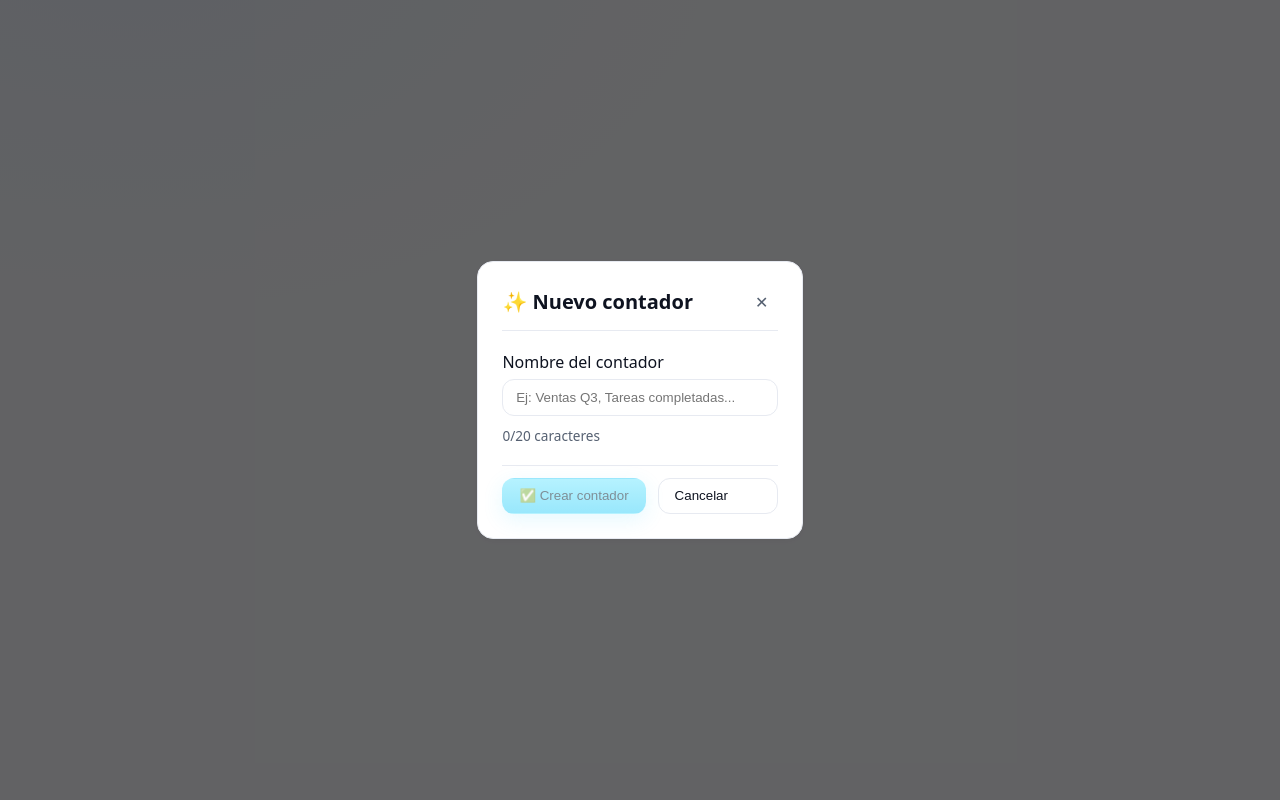
Test case: AddCounterModal Component › Validation logic › should validate name length correctly
The width and height of the screenshot is (1280, 800).
# Test minimum valid length (1 character)
Type "A" into the field with id "add-name" at (640, 398), box top-left (502, 380), bottom-right (778, 416)
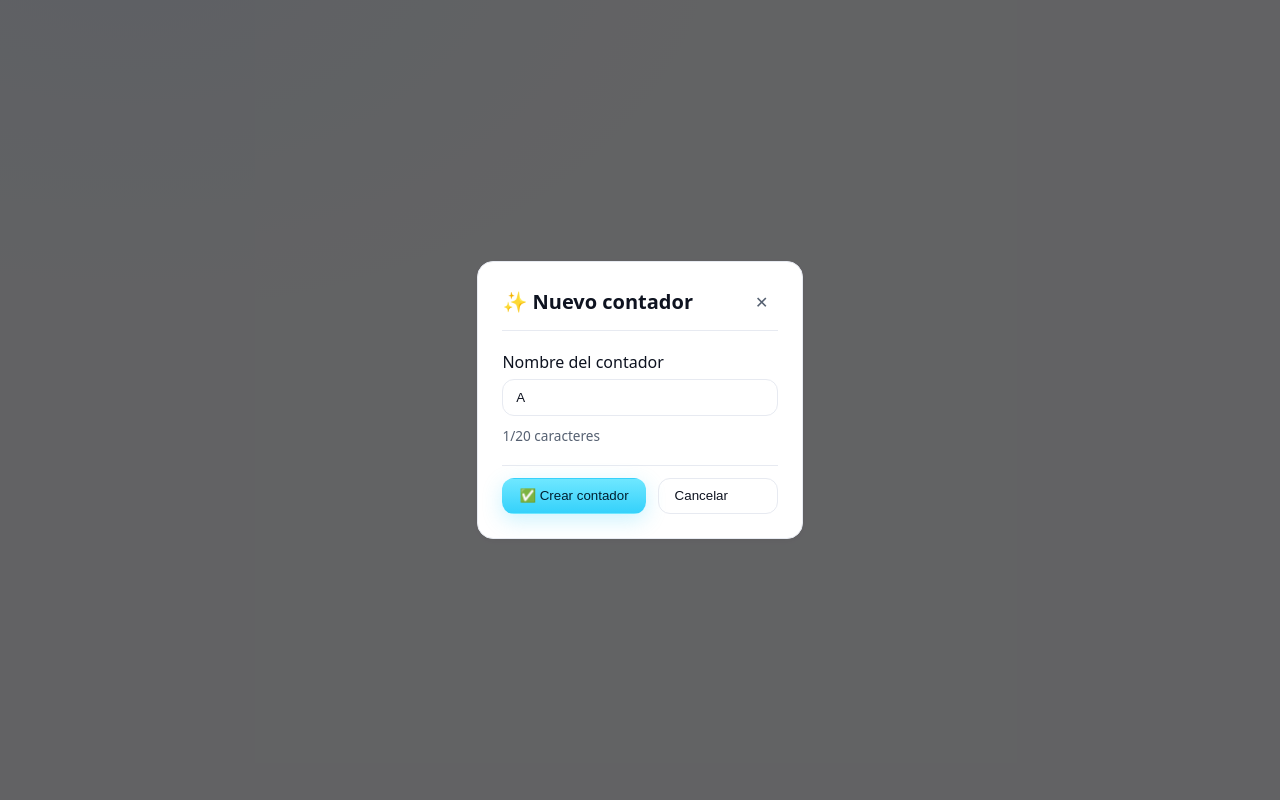
Check: the button "✅ Crear contador" is enabled, box top-left (502, 478), bottom-right (646, 514)
# Test maximum valid length (20 characters)
Replace the text in the field with id "add-name" with "12345678901234567890" at (640, 398), box top-left (502, 380), bottom-right (778, 416)
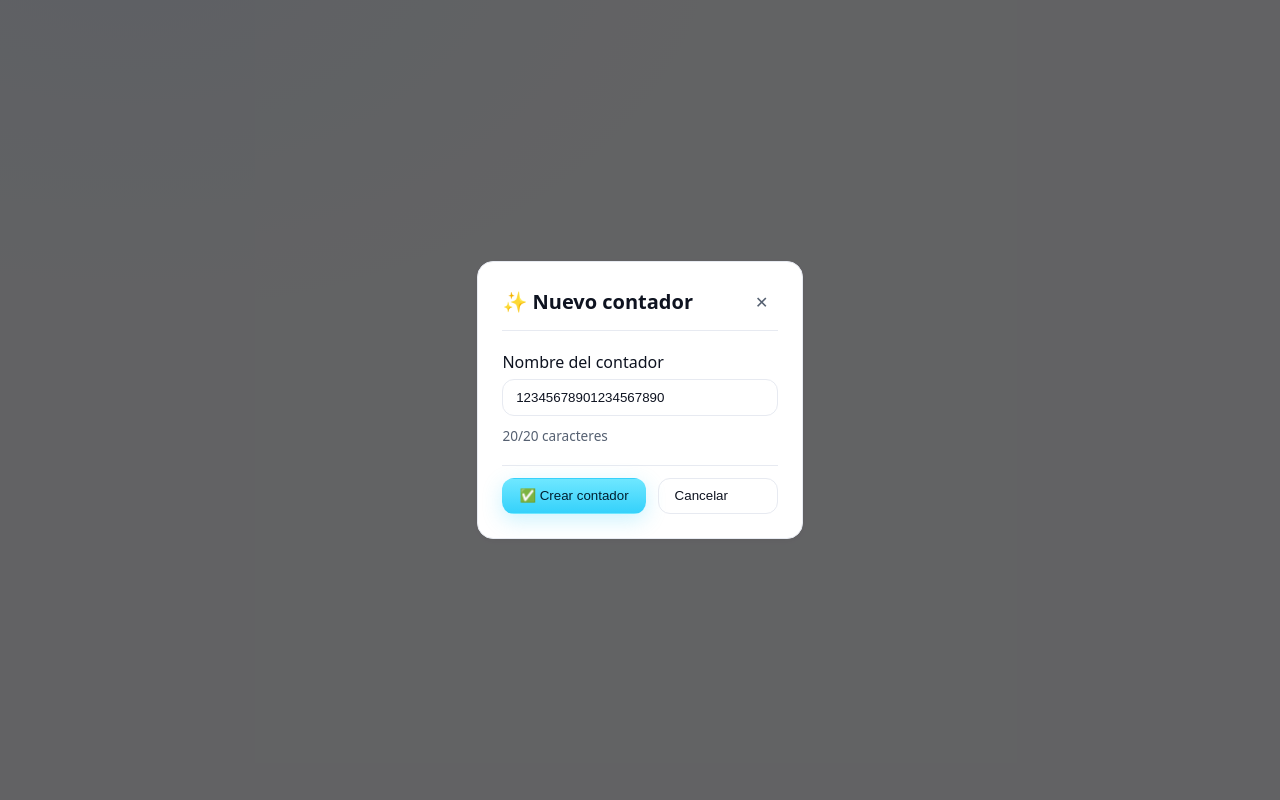
Check: the button "✅ Crear contador" is enabled, box top-left (502, 478), bottom-right (646, 514)
# Test over maximum length (21 characters)
Replace the text in the field with id "add-name" with "123456789012345678901" at (640, 398), box top-left (502, 380), bottom-right (778, 416)
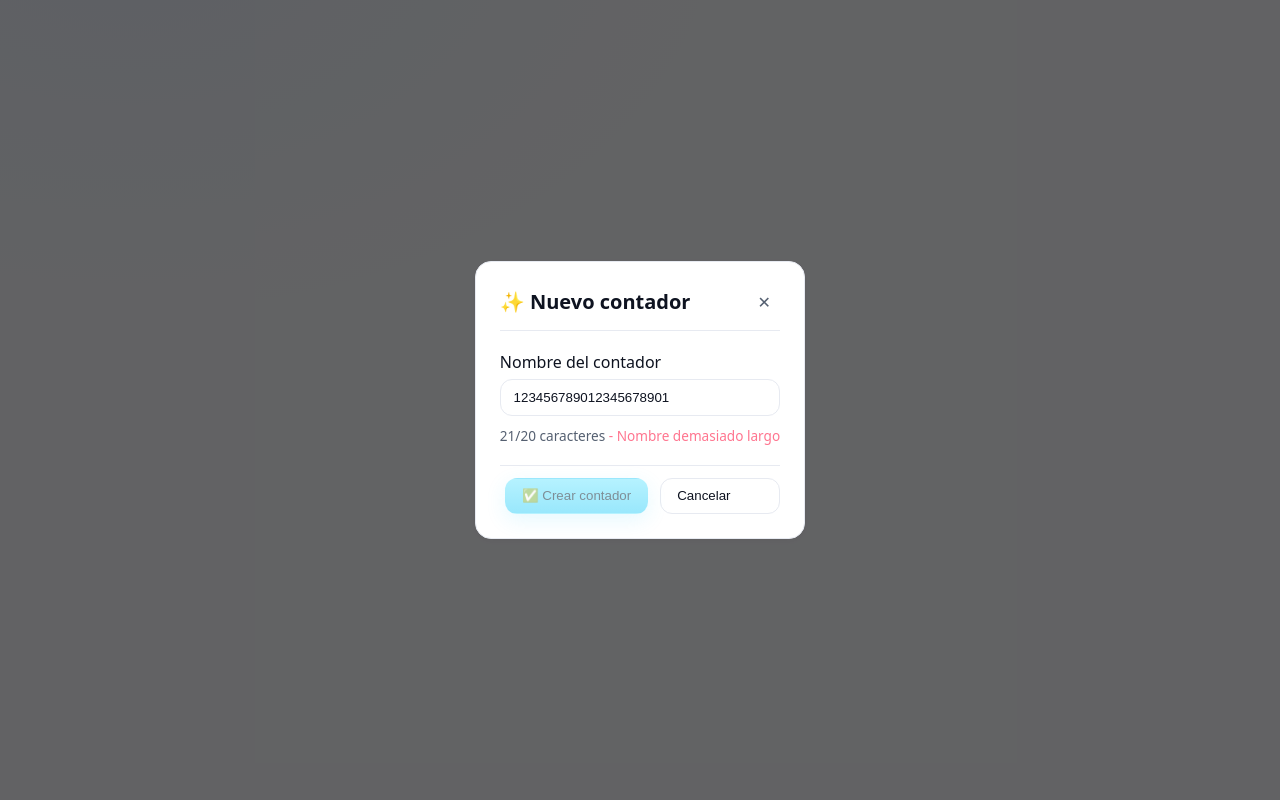
Check: the button "✅ Crear contador" is disabled, box top-left (505, 478), bottom-right (648, 514)
